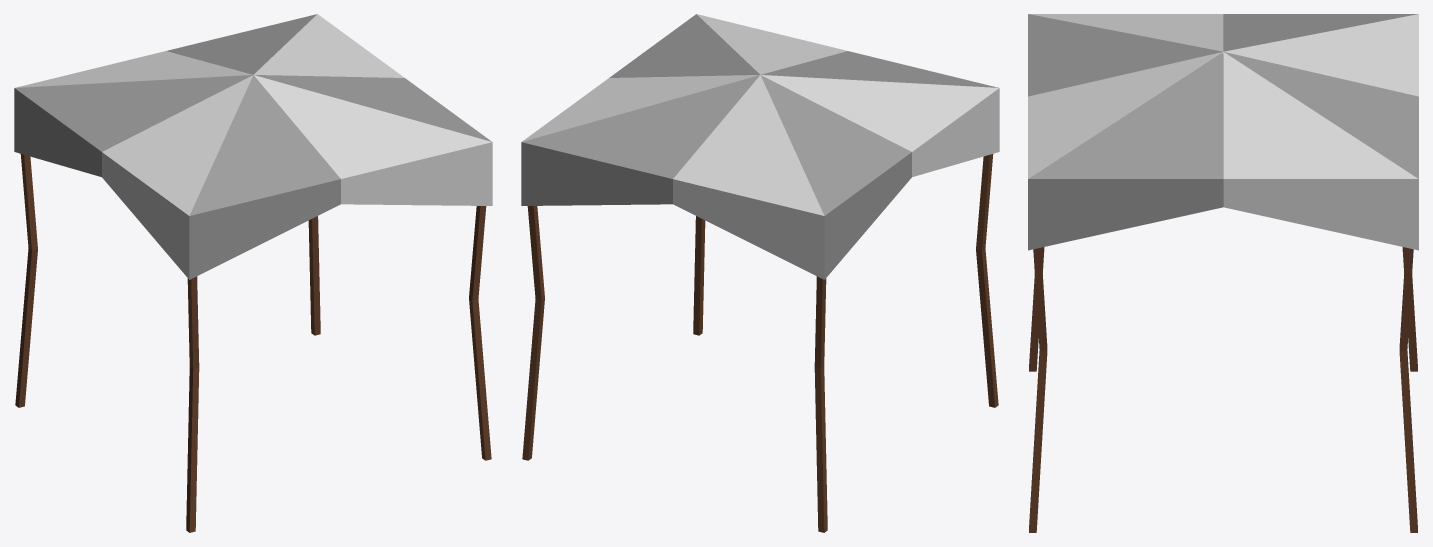
File: Tent_7_White.fbx
3 views of the same model, side by side, from view 1: azimuth 30°, elevation 25°; view 2: azimuth 150°, elevation 25°; view 3: azimuth 270°, elevation 25° (orthographic). The views are drawn at different scales.
Visible parts, largest first — view 1: Tent_7_White; view 2: Tent_7_White; view 3: Tent_7_White.
Part boxes in pixels (left/top/right/bottom): Tent_7_White: left=14, top=14, right=492, bottom=532; Tent_7_White: left=521, top=14, right=999, bottom=532; Tent_7_White: left=1028, top=14, right=1418, bottom=532.
Bounding box in the file's own units: 500 × 563 × 500.
